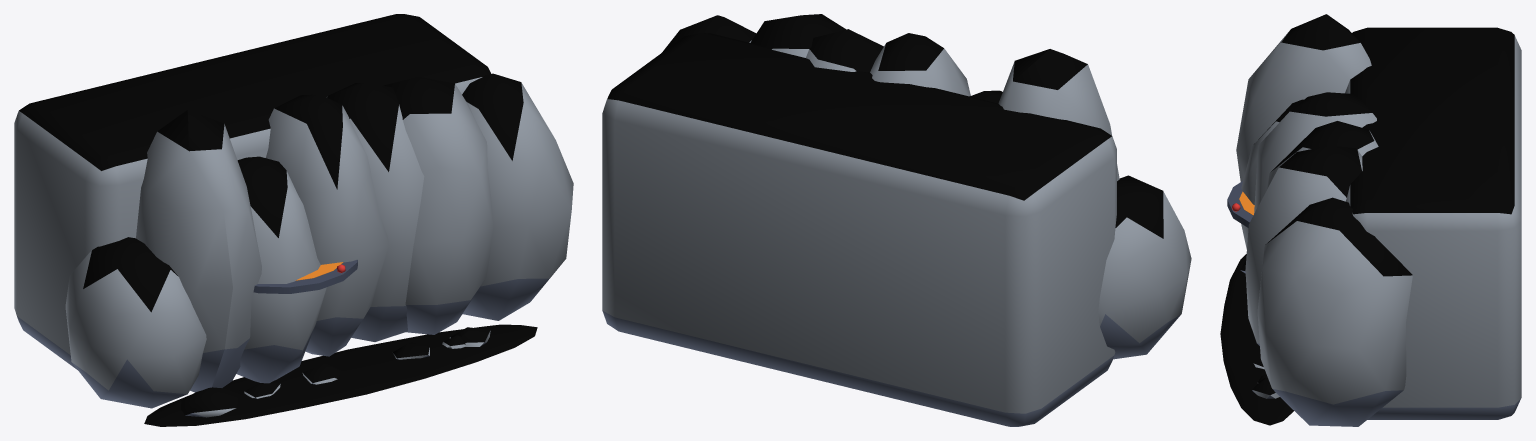
Rendered from CraterWallC.fbx.
3 views of the same model, side by side, from view 1: azimuth 30°, elevation 25°; view 2: azimuth 150°, elevation 25°; view 3: azimuth 270°, elevation 25° (orthographic). The views are drawn at different scales.
Visible parts, largest first — view 1: CraterWallC; view 2: CraterWallC; view 3: CraterWallC.
Part boxes in pixels (left/top/right/bottom): CraterWallC: left=14, top=14, right=573, bottom=426; CraterWallC: left=602, top=14, right=1191, bottom=426; CraterWallC: left=1220, top=14, right=1521, bottom=426.
Size of the model in its own units: 9.13 by 4.87 by 5.07.
Materials: 2 (2 with a texture image).
